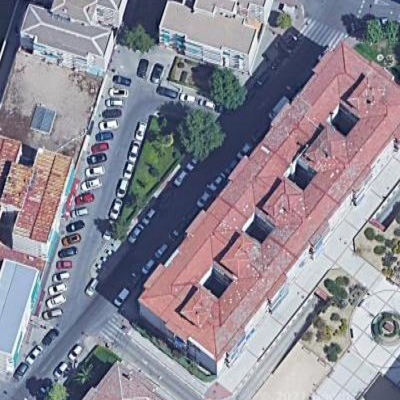tree: (171, 107, 230, 161), (204, 64, 253, 118), (358, 18, 400, 58), (121, 20, 158, 61), (272, 11, 300, 37), (325, 277, 351, 304), (42, 378, 70, 400), (312, 315, 332, 344), (325, 343, 346, 367)
